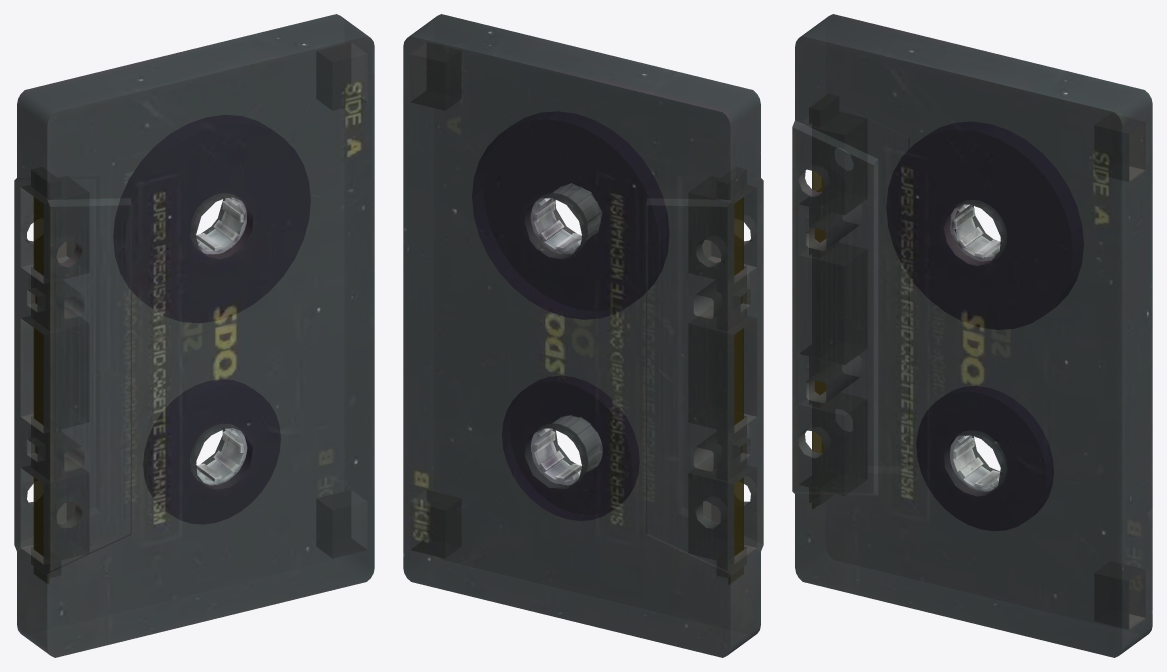
File: cassette.glb
The picture shows the model from 3 angles, left to right: view 1: azimuth 30°, elevation 25°; view 2: azimuth 150°, elevation 25°; view 3: azimuth 330°, elevation 25°; orthographic projection.
Visible parts, largest first — view 1: portable_cassette_player_casette, Cylinder, Cylinder.001; view 2: portable_cassette_player_casette, Cylinder, Cylinder.001; view 3: portable_cassette_player_casette, Cylinder, Cylinder.001.
Boxes of the visible parts, box(x1,y1,x2,y2) form: portable_cassette_player_casette: box(14, 14, 374, 657); Cylinder: box(113, 115, 310, 322); Cylinder.001: box(143, 379, 280, 524); portable_cassette_player_casette: box(403, 14, 763, 657); Cylinder: box(472, 111, 669, 319); Cylinder.001: box(502, 376, 639, 520); portable_cassette_player_casette: box(792, 14, 1152, 657); Cylinder: box(886, 122, 1083, 329); Cylinder.001: box(916, 386, 1053, 530).
Size of the model in its own units: 0.0617 by 0.0983 by 0.0117.
Materials: 3 (1 with a texture image).
